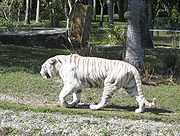Tigre: (37, 53, 160, 115)
